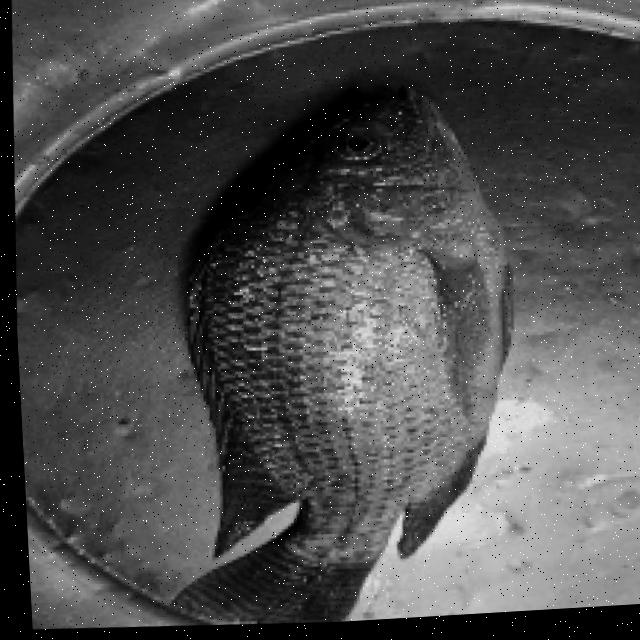Fresh: (131, 72, 552, 634)
